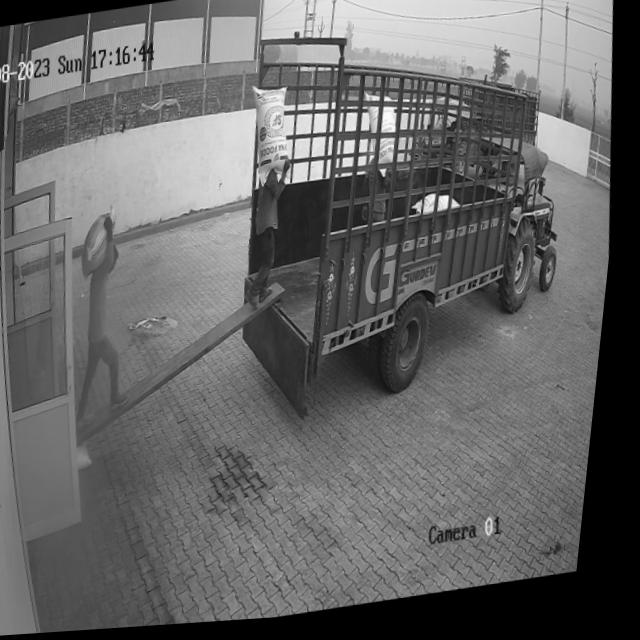sack: (246, 82, 300, 193), (81, 206, 126, 280)
